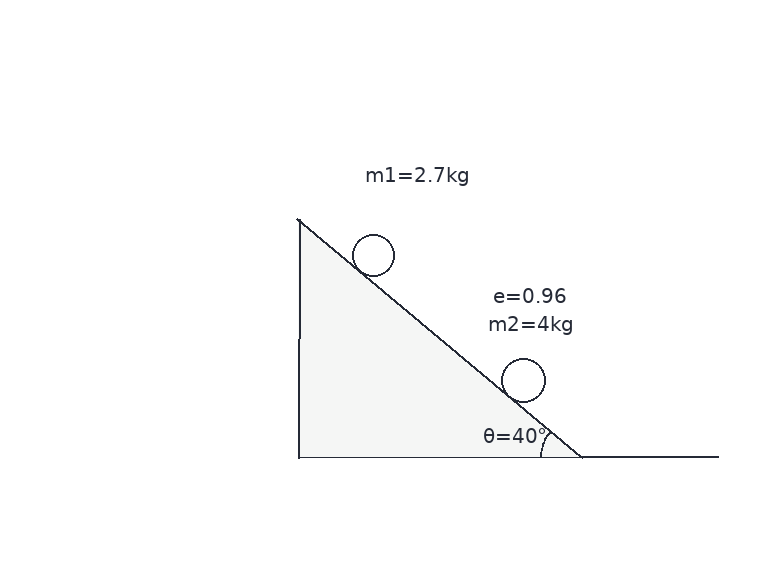ball: (499, 356, 547, 404), (350, 232, 396, 278)
ramp: (296, 218, 583, 459)
